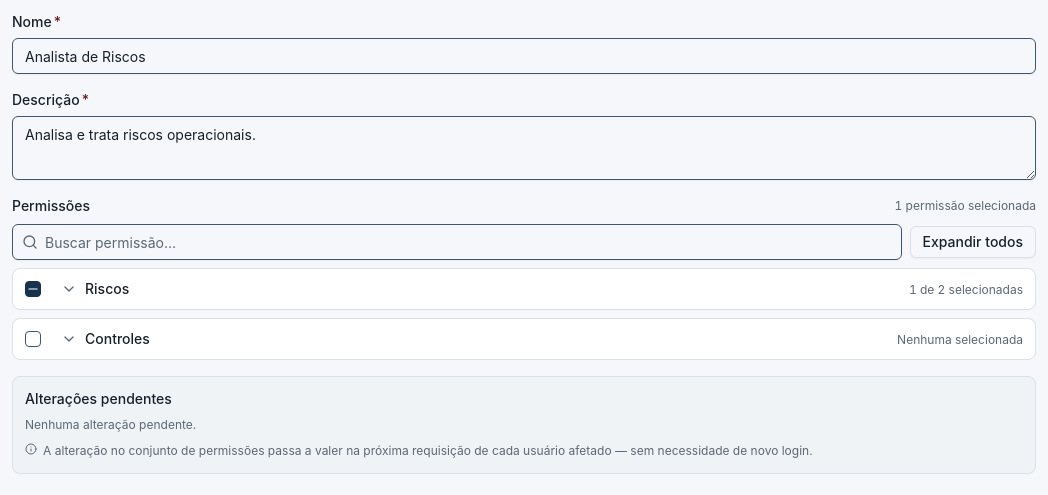
Test: RoleEditFields — the pending change summary (FR-029, FR-030) › names a renamed role with both the old and the new value
This screenshot has width=1048, height=495.
Expected: the button "Riscos 1 de 2 selecionadas" is shown, [49,269,1035,309]
Replace the text in the field labelled "Nome*" with "Leitor de Riscos" at (524, 56), box [12,38,1036,74]
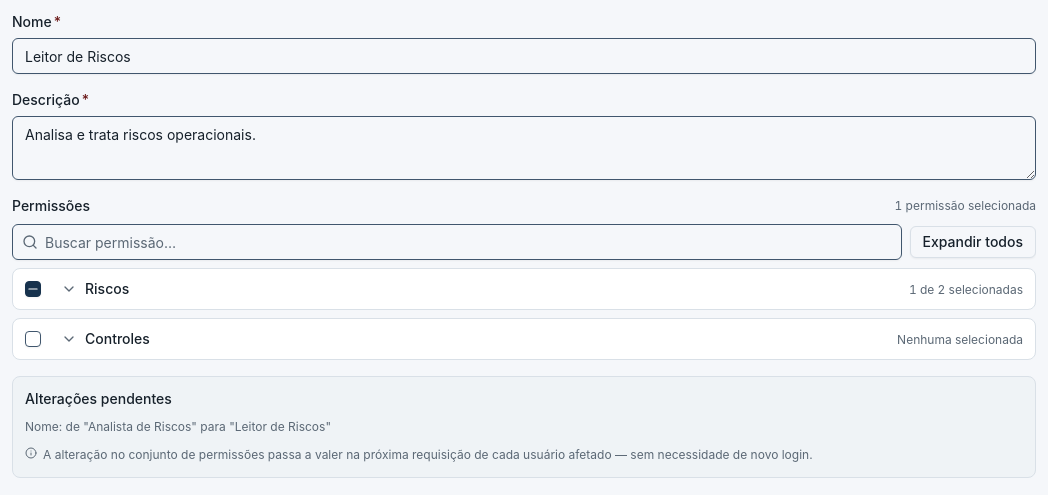
Result: the text "Nome: de \"Analista de Riscos\" para \"Leitor de Riscos\"" is shown at [25,419,331,434]
